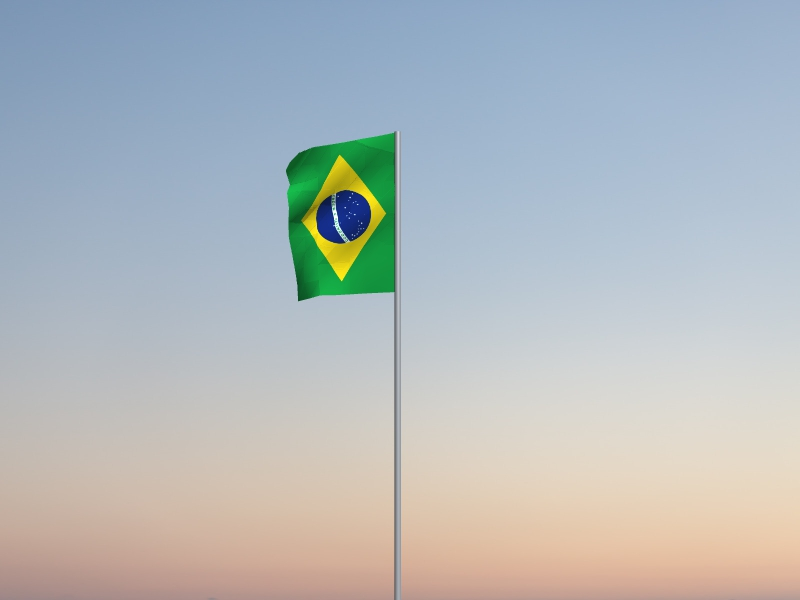br: (285, 134, 395, 303)
